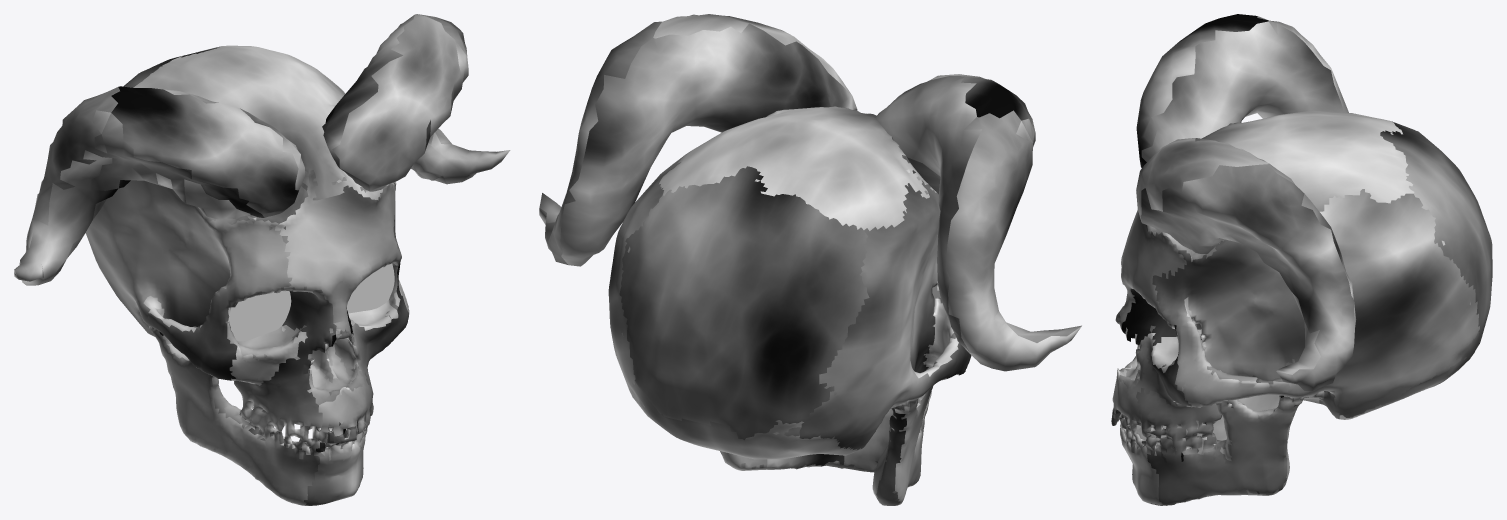
File: Skull_lowPoly.fbx
3 views of the same model, side by side, from view 1: azimuth 30°, elevation 25°; view 2: azimuth 150°, elevation 25°; view 3: azimuth 270°, elevation 25° (orthographic). The views are drawn at different scales.
Visible parts, largest first — view 1: skullhorn, horn, Плоскость.001; view 2: skullhorn, horn; view 3: skullhorn, horn.
Part boxes in pixels (x1,y1,x2,y2): skullhorn: (85, 45, 409, 505); horn: (14, 14, 510, 285); Плоскость.001: (228, 263, 394, 341); skullhorn: (608, 106, 971, 505); horn: (539, 14, 1081, 371); skullhorn: (1111, 110, 1492, 505); horn: (1136, 14, 1356, 390).
Size of the model in its own units: 3.46 by 2.74 by 2.34.
